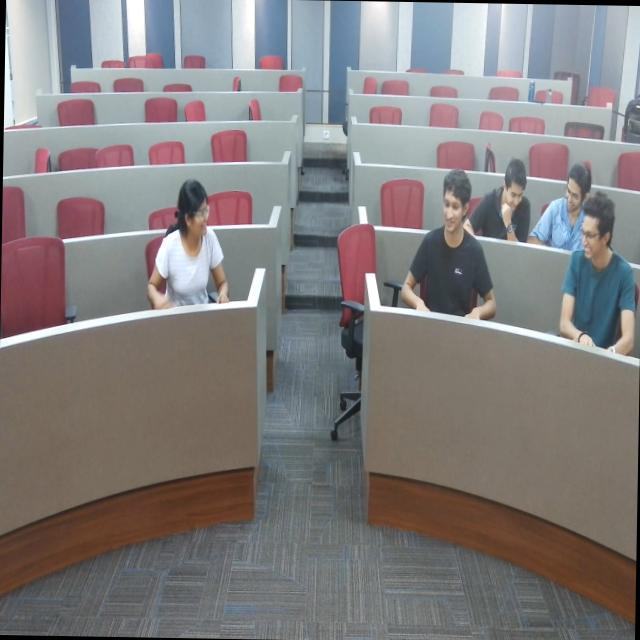cheating: (394, 180, 504, 334), (557, 198, 640, 369), (135, 191, 239, 317), (480, 156, 534, 247), (541, 174, 591, 252)
